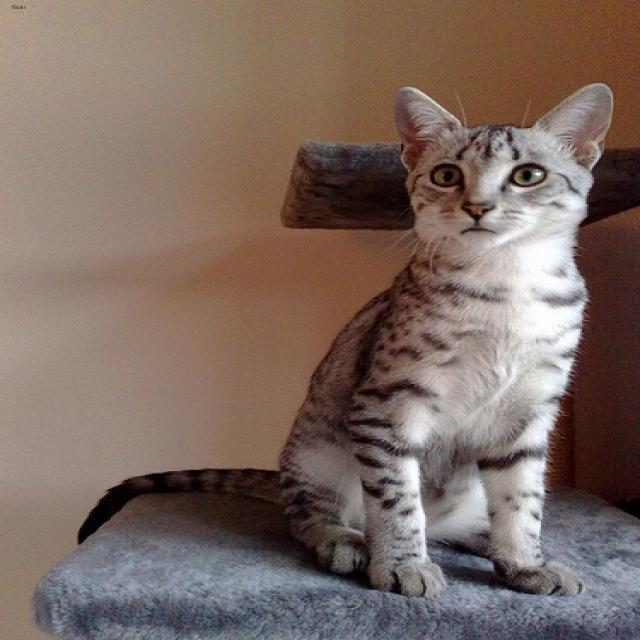Egyptian_Mau: (391, 80, 611, 253)
